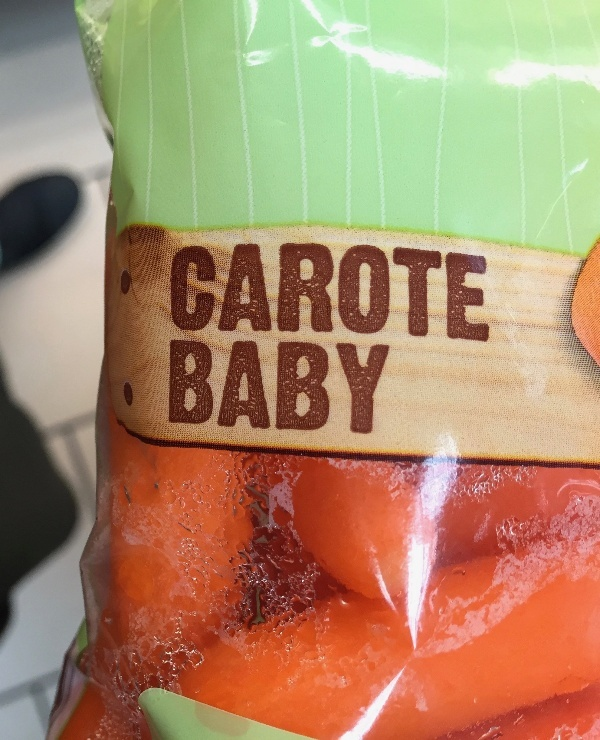text: (177, 239, 192, 346), (193, 239, 208, 346), (209, 239, 224, 346), (225, 239, 240, 346), (241, 239, 256, 346), (257, 239, 272, 346), (273, 239, 288, 346), (289, 239, 304, 346), (305, 239, 320, 346), (321, 239, 336, 346), (337, 239, 352, 346), (353, 239, 368, 346), (369, 239, 384, 346), (385, 239, 400, 346), (401, 239, 416, 346), (417, 239, 432, 346), (433, 239, 448, 346), (449, 239, 464, 346), (465, 239, 480, 346), (177, 334, 192, 441), (193, 334, 208, 441), (209, 334, 224, 441), (225, 334, 240, 441), (241, 334, 256, 441), (257, 334, 272, 441), (273, 334, 288, 441), (289, 334, 304, 441), (305, 334, 320, 441), (321, 334, 336, 441), (337, 334, 352, 441), (353, 334, 368, 441), (369, 334, 384, 441), (481, 239, 493, 346), (385, 334, 397, 441), (167, 334, 176, 441), (170, 239, 176, 346)
